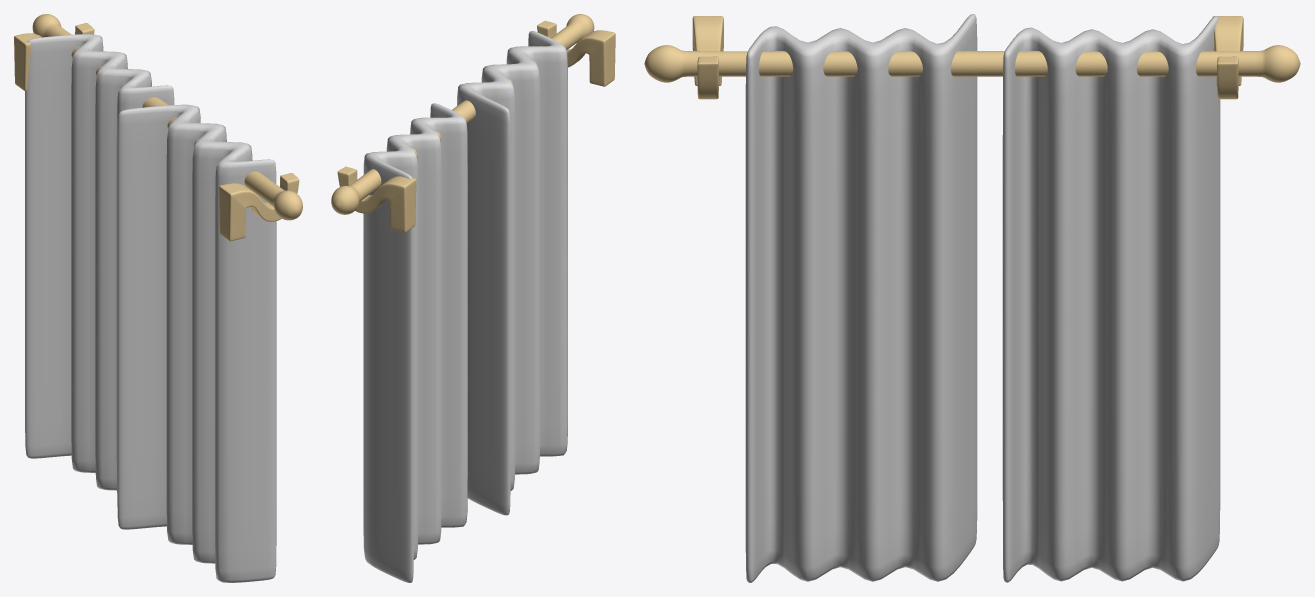
File: curtain.fbx
The picture shows the model from 3 angles, left to right: view 1: azimuth 30°, elevation 25°; view 2: azimuth 150°, elevation 25°; view 3: azimuth 270°, elevation 25°; orthographic projection. The views are drawn at different scales.
Visible parts, largest first — view 1: curtain, curtain2, curtain holder, curtain hanger, curtain holder.001; view 2: curtain, curtain2, curtain hanger, curtain holder.001, curtain holder; view 3: curtain, curtain2, curtain hanger, curtain holder, curtain holder.001.
Part boxes in pixels (bbox=[...]): curtain: bbox=[117, 104, 276, 582]; curtain2: bbox=[25, 34, 174, 492]; curtain holder: bbox=[219, 173, 299, 241]; curtain hanger: bbox=[32, 14, 302, 220]; curtain holder.001: bbox=[14, 23, 94, 91]; curtain: bbox=[457, 31, 567, 515]; curtain2: bbox=[363, 103, 467, 582]; curtain hanger: bbox=[331, 14, 594, 214]; curtain holder.001: bbox=[337, 166, 416, 232]; curtain holder: bbox=[537, 20, 615, 86]; curtain: bbox=[745, 14, 977, 582]; curtain2: bbox=[1002, 16, 1220, 582]; curtain hanger: bbox=[644, 45, 1300, 82]; curtain holder: bbox=[692, 16, 723, 99]; curtain holder.001: bbox=[1212, 16, 1243, 99].
Bounding box in the file's own units: 58.11 × 316 × 353.
